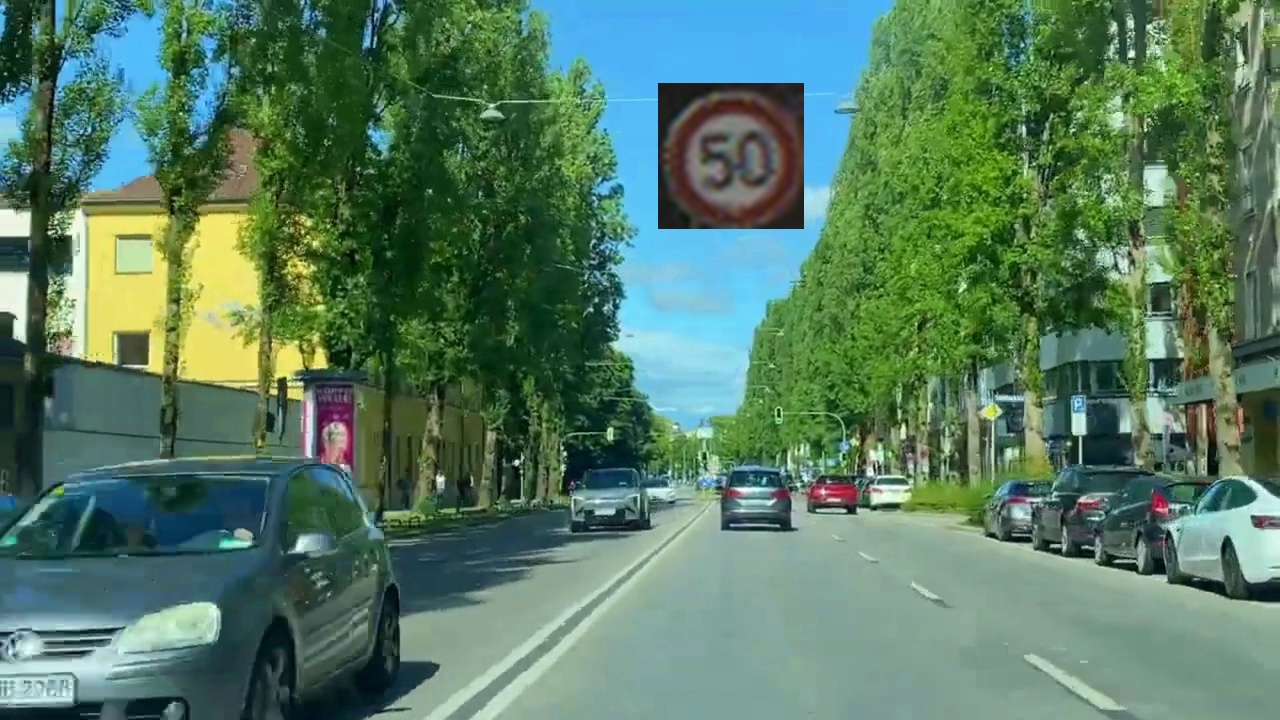Speed 50: (658, 83, 804, 229)
